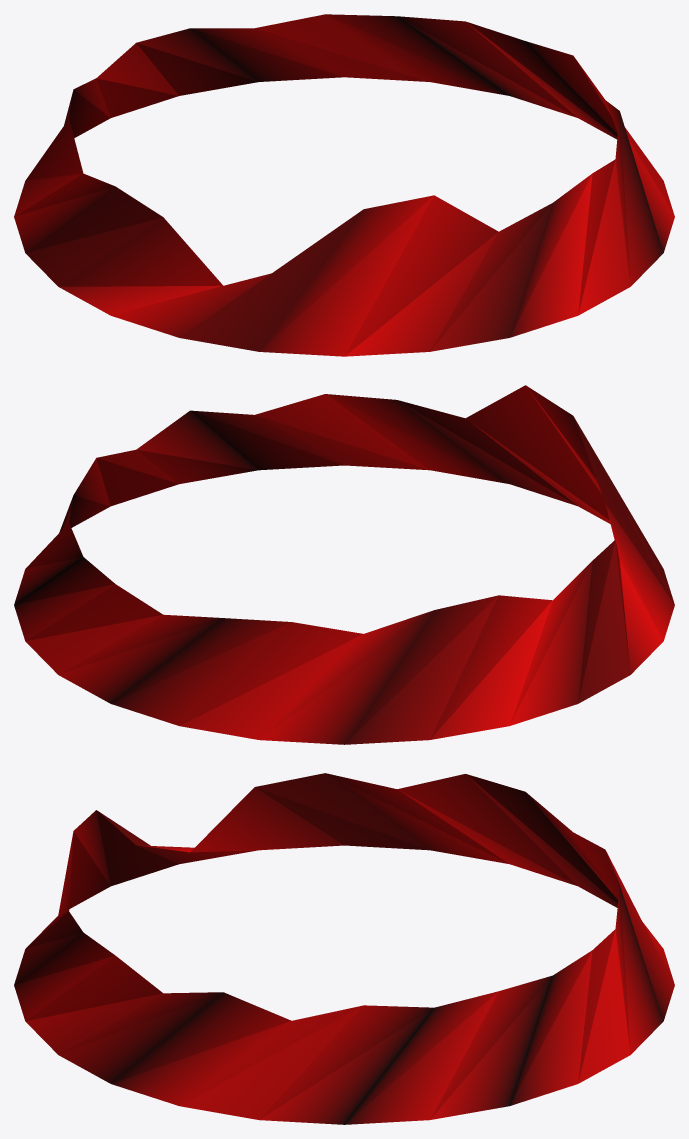
File: base_spiral.fbx
3 views of the same model, one above another, from view 1: azimuth 30°, elevation 25°; view 2: azimuth 150°, elevation 25°; view 3: azimuth 270°, elevation 25° (orthographic).
Parts seen in each view (by area): view 1: pointwrangle1; view 2: pointwrangle1; view 3: pointwrangle1.
Part boxes in pixels (left/top/right/bottom): pointwrangle1: left=14, top=14, right=674, bottom=356; pointwrangle1: left=14, top=385, right=674, bottom=744; pointwrangle1: left=14, top=773, right=674, bottom=1124.
Bounding box in the file's own units: 2.4 × 0.5288 × 2.4.
